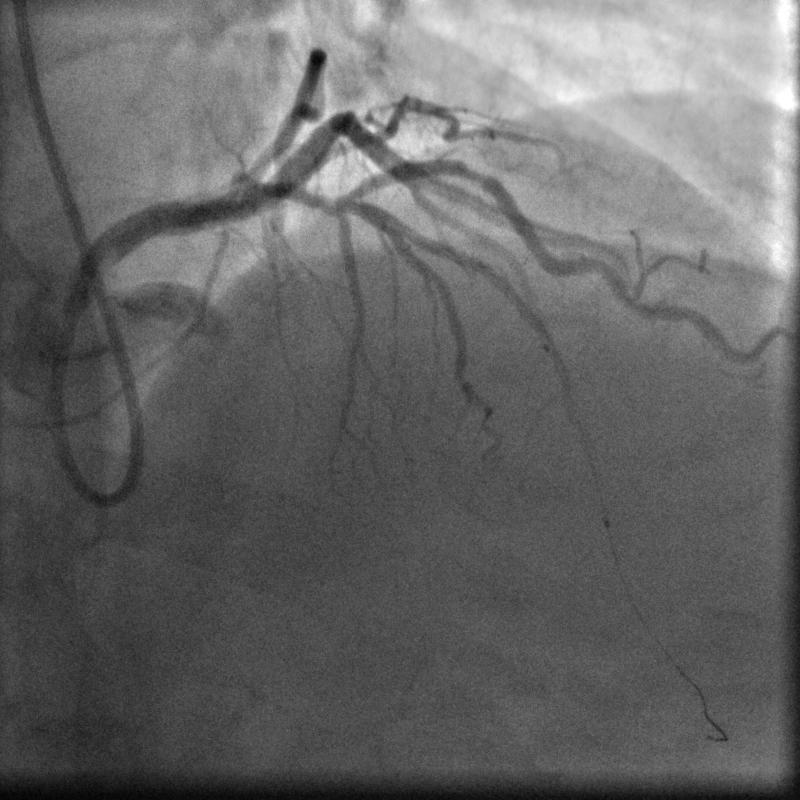Stenosis: (449, 154, 494, 191)
